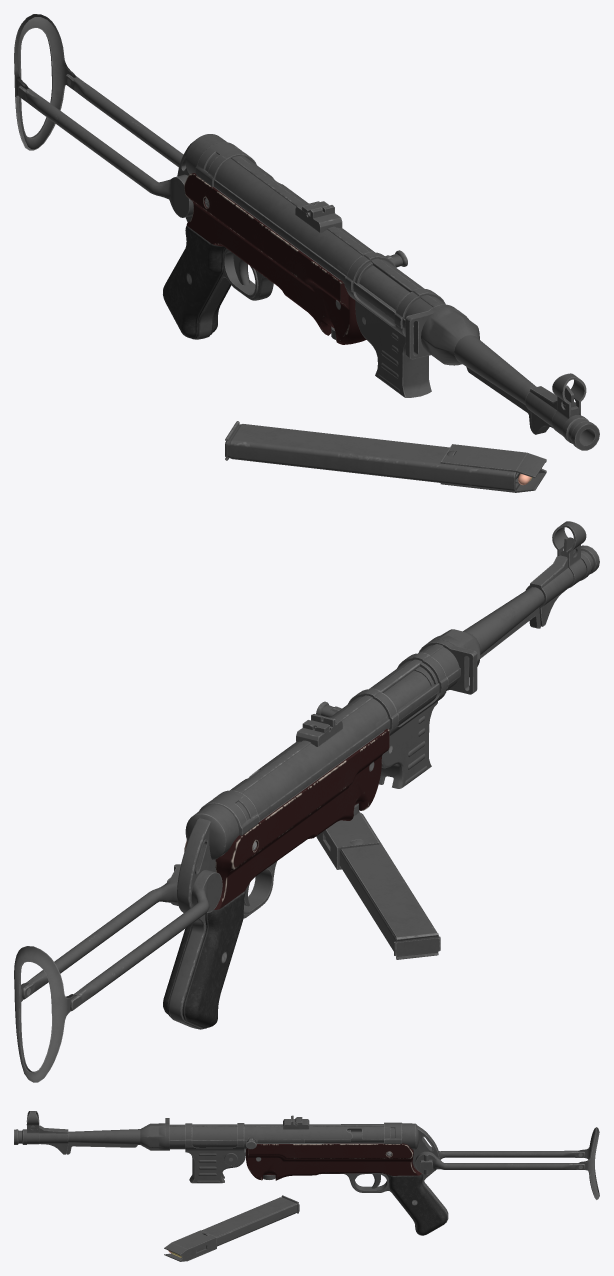
Rendered from gun_low_poly.glb.
3 views of the same model, one above another, from view 1: azimuth 30°, elevation 25°; view 2: azimuth 150°, elevation 25°; view 3: azimuth 270°, elevation 25° (orthographic). The views are drawn at different scales.
Visible parts, largest first — view 1: MP40_MP40_0, Mag_MP40_0, Stock_MP40_0, Bolt_MP40_0; view 2: MP40_MP40_0, Stock_MP40_0, Mag_MP40_0, Bolt_MP40_0; view 3: MP40_MP40_0, Stock_MP40_0, Mag_MP40_0.
Boxes of the visible parts, left/top/right/bottom form: MP40_MP40_0: left=163, top=134, right=599, bottom=450; Mag_MP40_0: left=225, top=421, right=546, bottom=492; Stock_MP40_0: left=14, top=14, right=193, bottom=217; Bolt_MP40_0: left=337, top=250, right=409, bottom=310; MP40_MP40_0: left=163, top=521, right=599, bottom=1029; Stock_MP40_0: left=14, top=864, right=222, bottom=1082; Mag_MP40_0: left=316, top=811, right=440, bottom=959; Bolt_MP40_0: left=316, top=666, right=433, bottom=727; MP40_MP40_0: left=14, top=1111, right=448, bottom=1235; Stock_MP40_0: left=415, top=1127, right=599, bottom=1199; Mag_MP40_0: left=164, top=1195, right=299, bottom=1261.
Bounding box in the file's own units: 0.102 × 0.1016 × 0.4372.
1 material, 1 textured.
